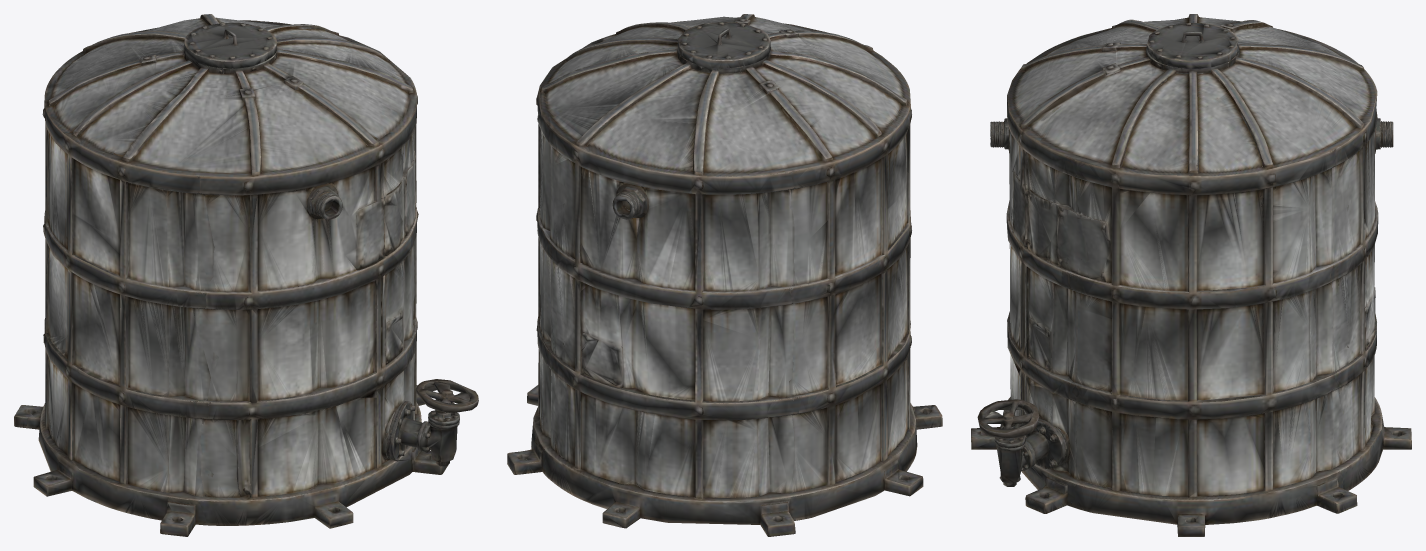
File: tank_steel.glb
3 renders of one model, left to right at view 1: azimuth 30°, elevation 25°; view 2: azimuth 150°, elevation 25°; view 3: azimuth 270°, elevation 25°, orthographic.
Parts seen in each view (by area): view 1: tank_steel; view 2: tank_steel; view 3: tank_steel.
Boxes of the visible parts, <box> form: tank_steel: <box>14,14,478,536</box>; tank_steel: <box>507,14,942,536</box>; tank_steel: <box>971,14,1411,536</box>.
Bounding box in the file's own units: 184 × 190 × 184.
Materials: 1 (1 with a texture image).
